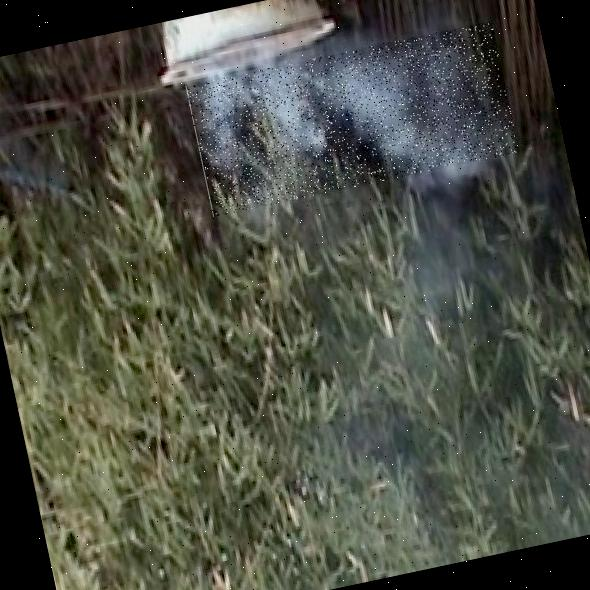smoke: (185, 20, 519, 216)
